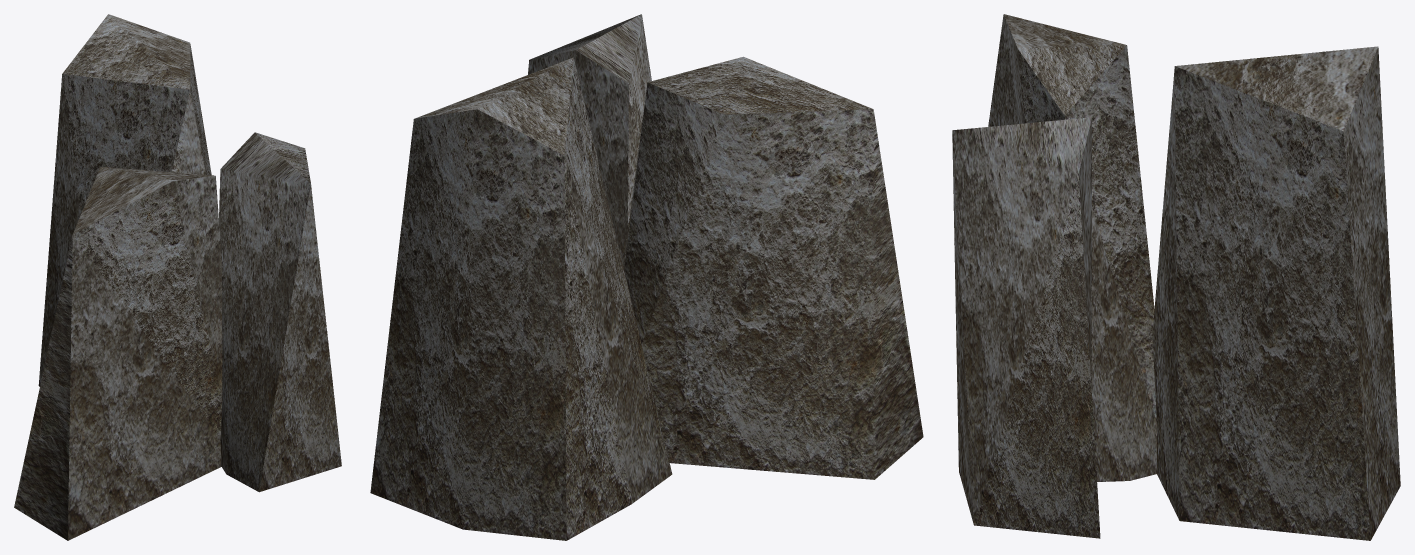
File: ex_nord_rock_01.obj
3 views of the same model, side by side, from view 1: azimuth 30°, elevation 25°; view 2: azimuth 150°, elevation 25°; view 3: azimuth 270°, elevation 25° (orthographic). The views are drawn at different scales.
Visible parts, largest first — view 1: nifid_1-matrix_Ex_nord_rock_01-lib; view 2: nifid_1-matrix_Ex_nord_rock_01-lib; view 3: nifid_1-matrix_Ex_nord_rock_01-lib.
Boxes of the visible parts, x1,y1,x2,y2 form: nifid_1-matrix_Ex_nord_rock_01-lib: (14, 14, 341, 540); nifid_1-matrix_Ex_nord_rock_01-lib: (370, 14, 923, 540); nifid_1-matrix_Ex_nord_rock_01-lib: (952, 14, 1400, 540).
Bounding box in the file's own units: 1.35 × 1.46 × 1.35.
